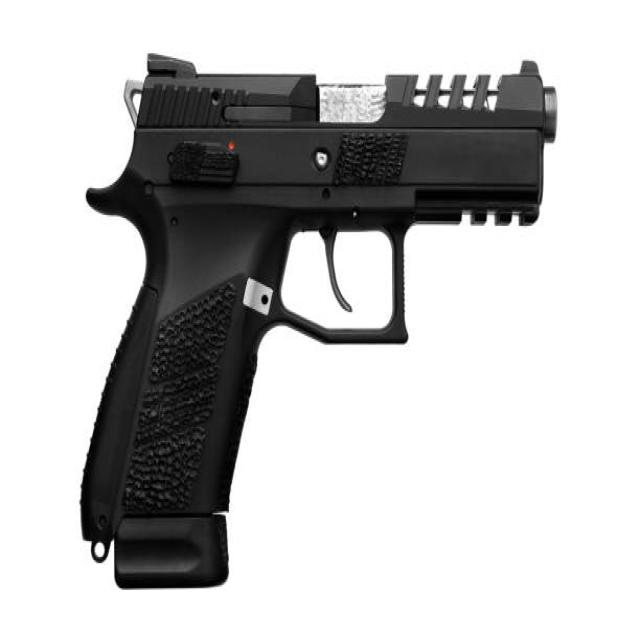pistol: (73, 47, 566, 598)
